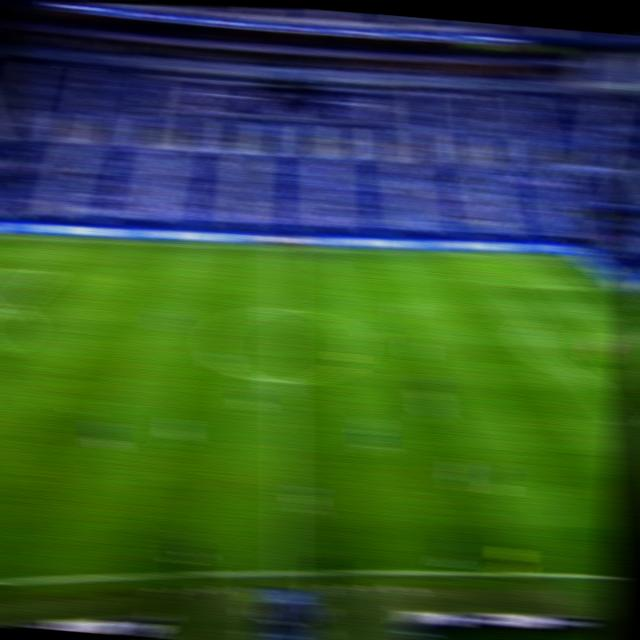bigarea_top_inner: (35, 263, 64, 279), (492, 278, 520, 293)
bigarea_top_outter: (590, 281, 618, 296)
bottom_arc_area_intersection: (571, 371, 598, 386)
corner: (553, 251, 580, 266)
halfcircle_bottom: (273, 375, 300, 388)
halfcircle_top: (272, 303, 300, 317)
midline_bottom_intersection: (273, 564, 301, 581)
midline_top_intersection: (271, 243, 300, 256)
smallarea_top_inner: (593, 312, 621, 326)
top_arc_area_intersection: (521, 313, 550, 330), (0, 300, 26, 316)
